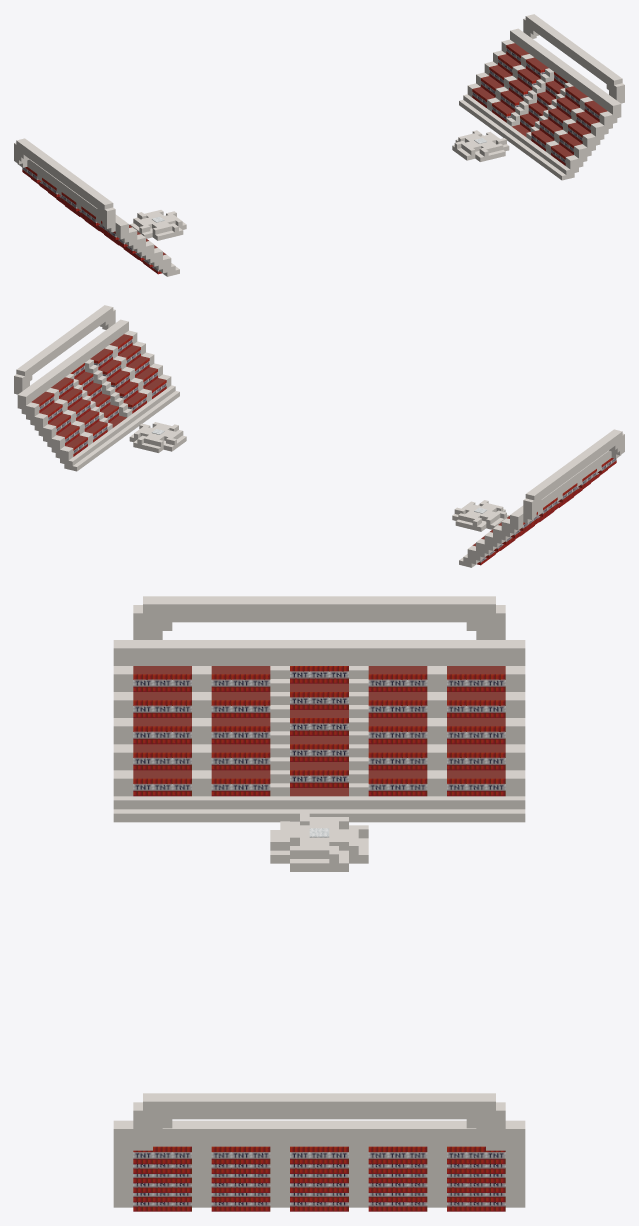
File: minecraft.obj
3 renders of one model, top to bottom at view 1: azimuth 30°, elevation 25°; view 2: azimuth 150°, elevation 25°; view 3: azimuth 270°, elevation 25°, orthographic. The views are drawn at different scales.
Size of the model in its own units: 61 by 9 by 21.
